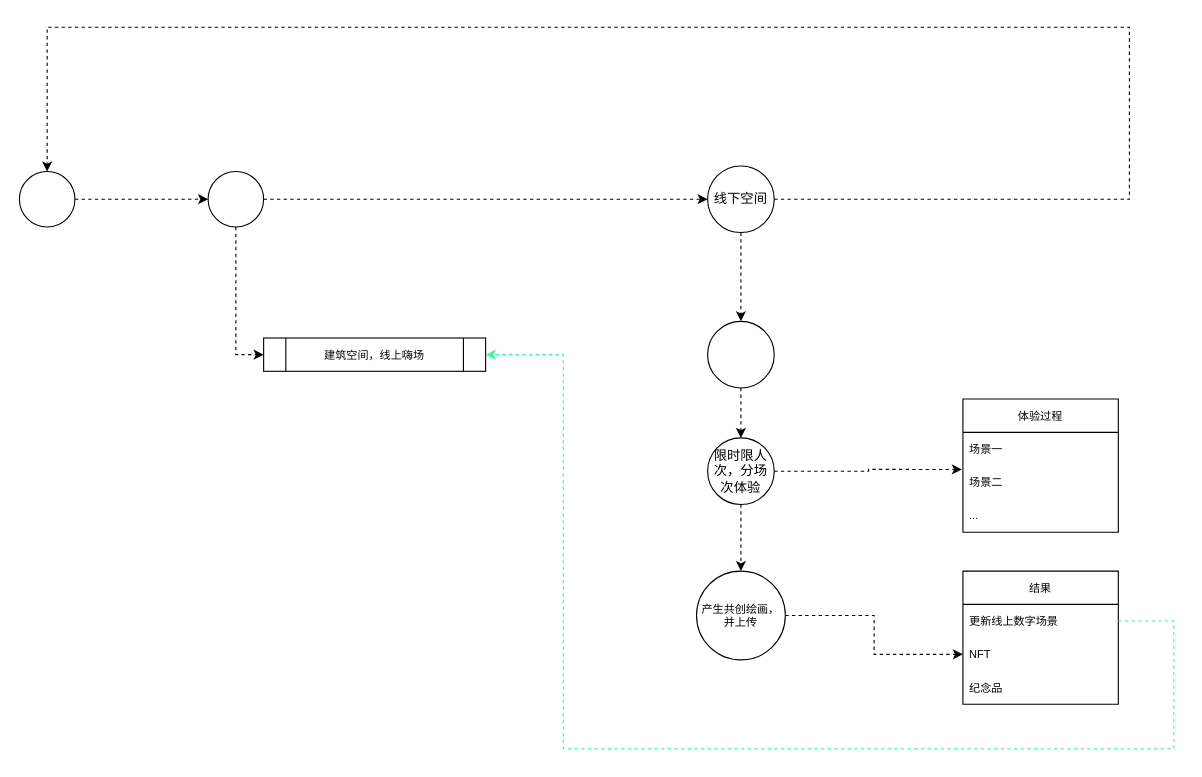
This 1202x777 diagram has some shape labels left out. The centre of each missing label's shape, as x and y in pixels:
APP: the point at 235,198
start: the point at 46,198
春之羽探索空间: the point at 740,354
